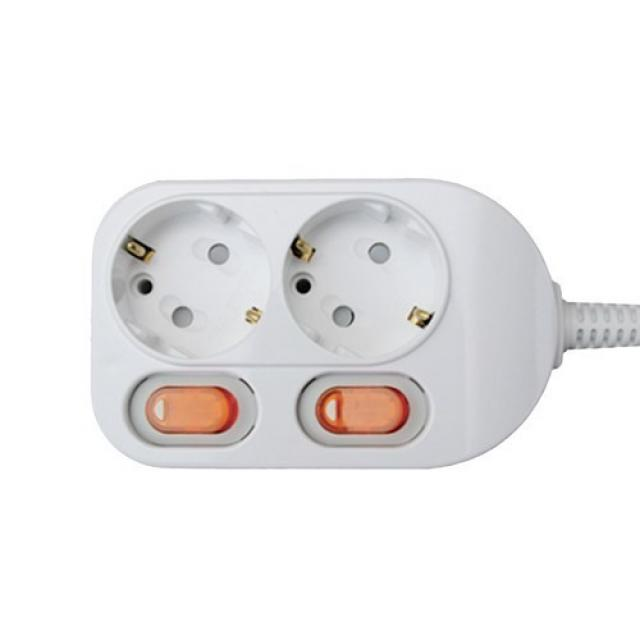typeb: (35, 146, 595, 518)
